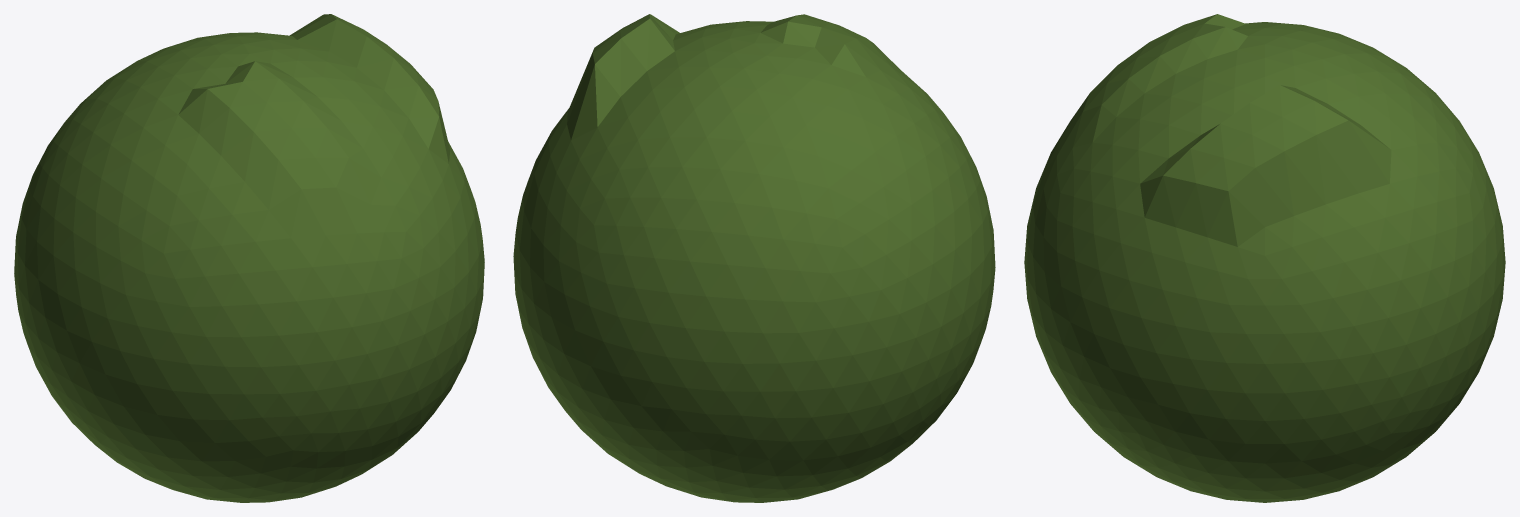
File: planet2.fbx
The picture shows the model from 3 angles, left to right: view 1: azimuth 30°, elevation 25°; view 2: azimuth 150°, elevation 25°; view 3: azimuth 270°, elevation 25°; orthographic projection. The views are drawn at different scales.
Visible parts, largest first — view 1: planetf; view 2: planetf; view 3: planetf.
Part boxes in pixels (box(x1,y1,x2,y2)): planetf: box(14, 14, 484, 502); planetf: box(513, 14, 995, 502); planetf: box(1024, 14, 1505, 502).
Size of the model in its own units: 1200 by 1229 by 1200.
